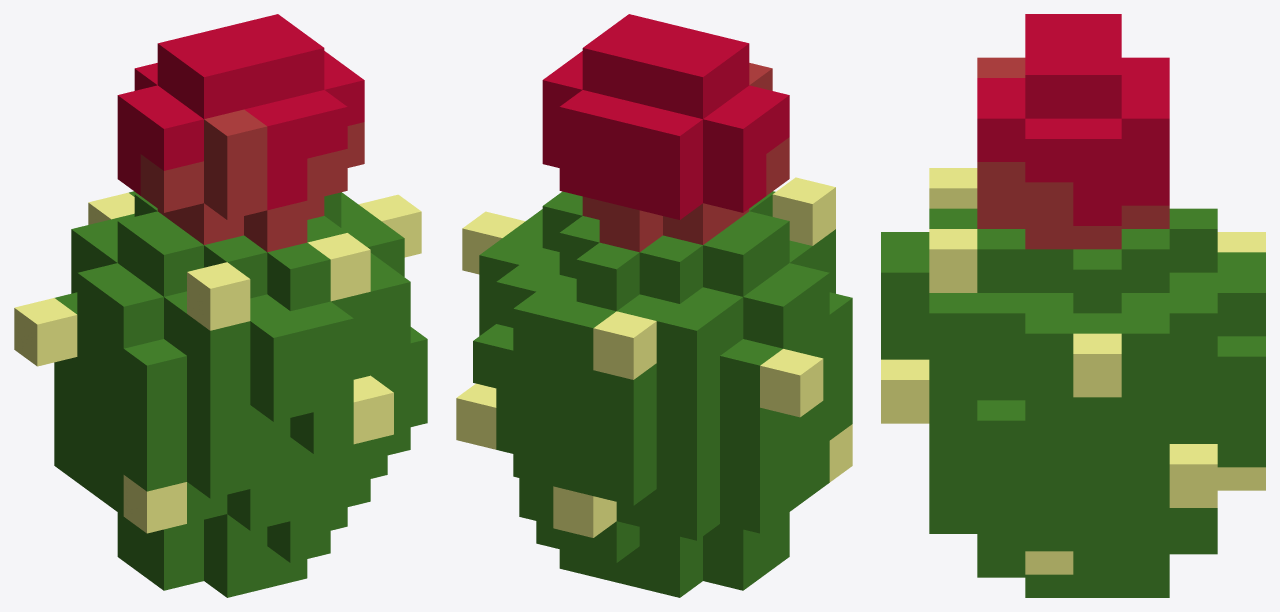
Rendered from cactus_flower.obj.
3 views of the same model, side by side, from view 1: azimuth 30°, elevation 25°; view 2: azimuth 150°, elevation 25°; view 3: azimuth 270°, elevation 25° (orthographic). The views are drawn at different scales.
Size of the model in its own units: 0.9 by 1.2 by 0.8.
1 material, 1 textured.
